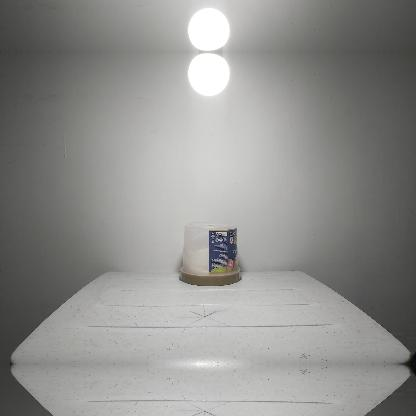Lady-s-Choice: (180, 220, 240, 286)
